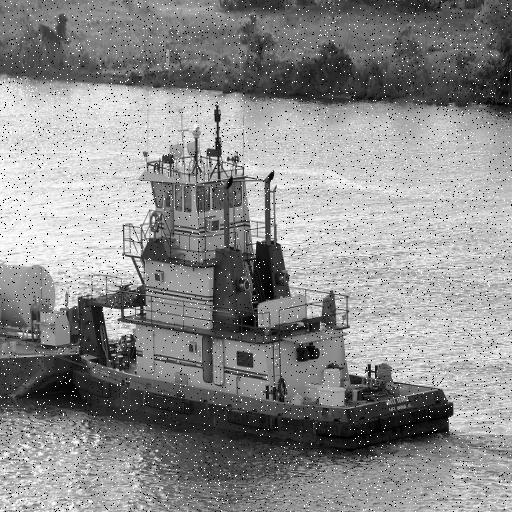tugboat: (59, 127, 458, 458)
